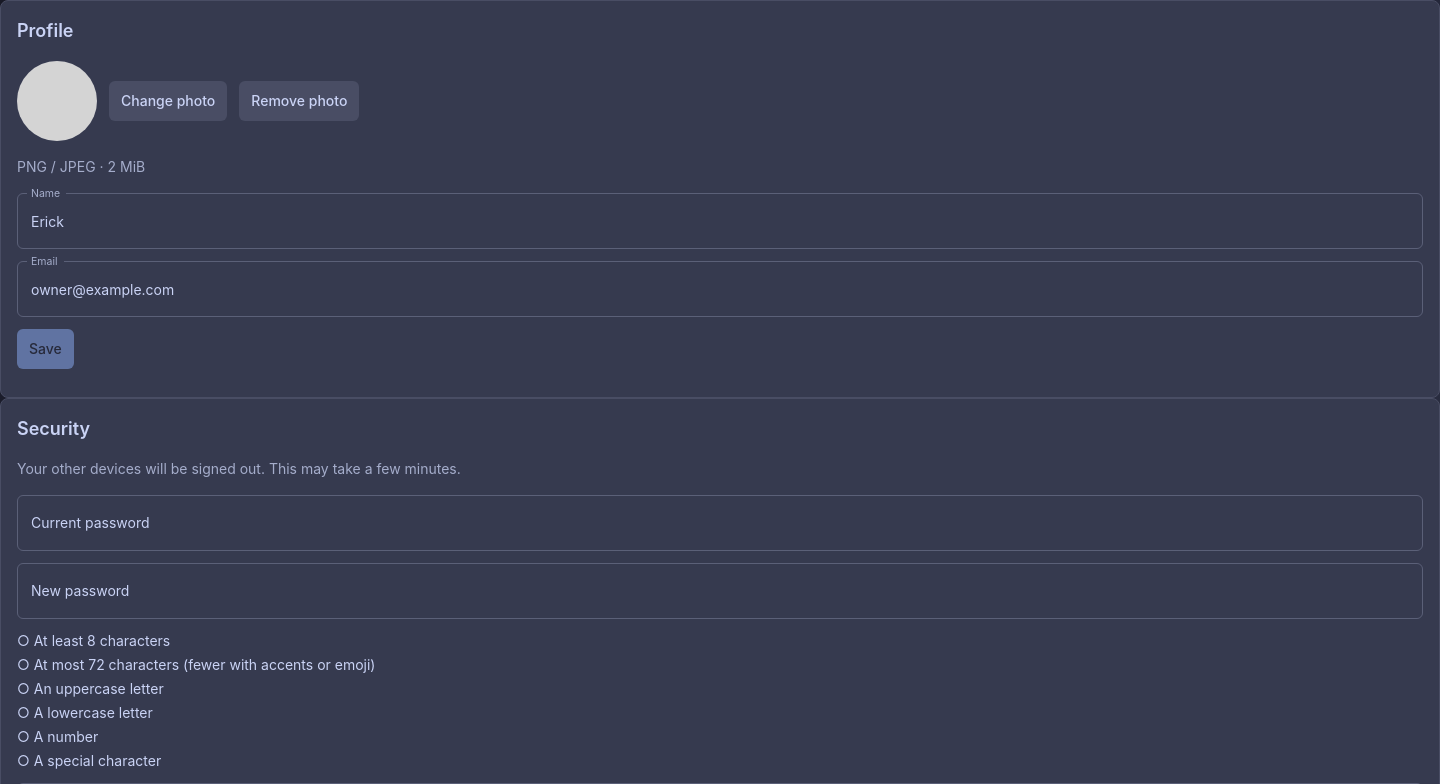
Test: removes a photo with its own message
Click the button "Remove photo" at {"x": 299, "y": 101}, box [239,81,359,121]
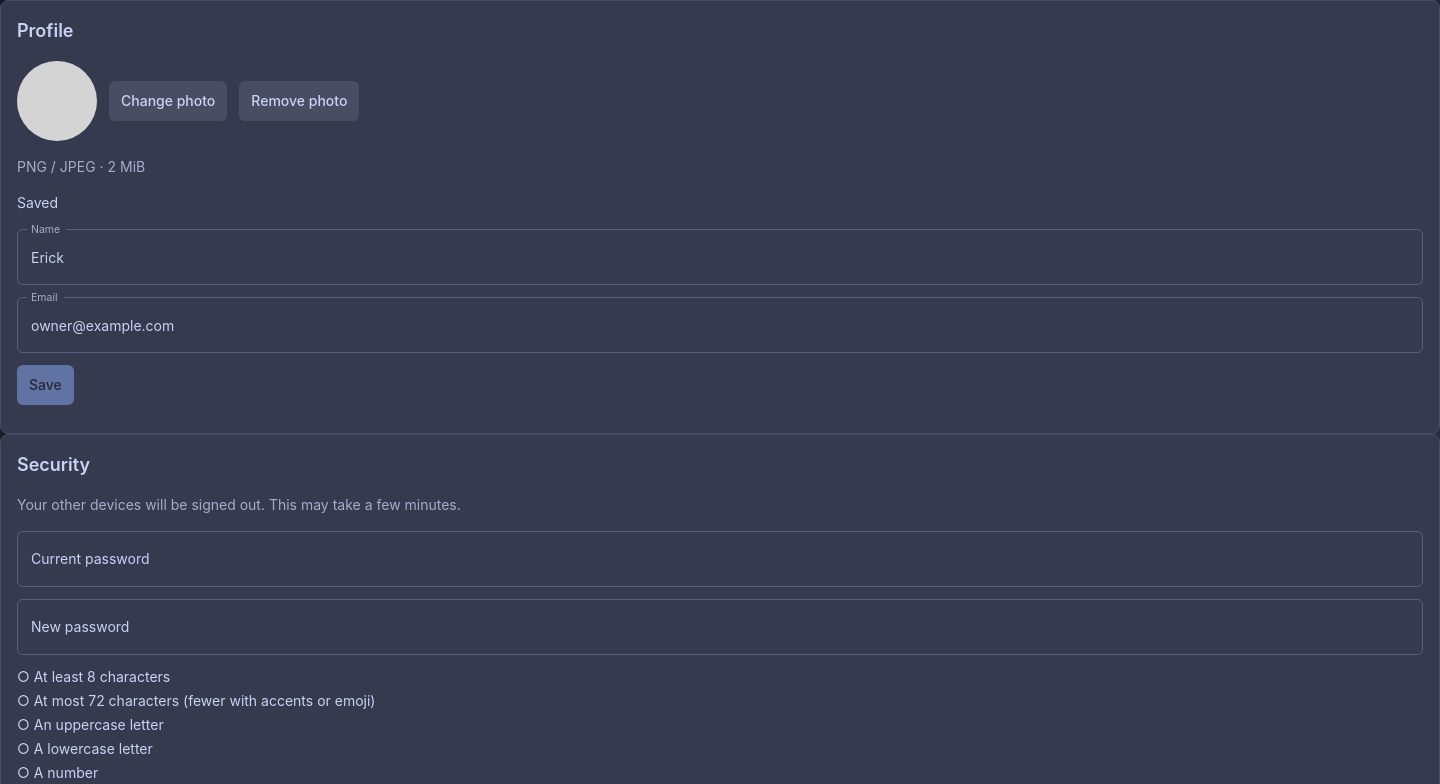
expect the text "Saved" is shown: met, box [17,194,58,211]
